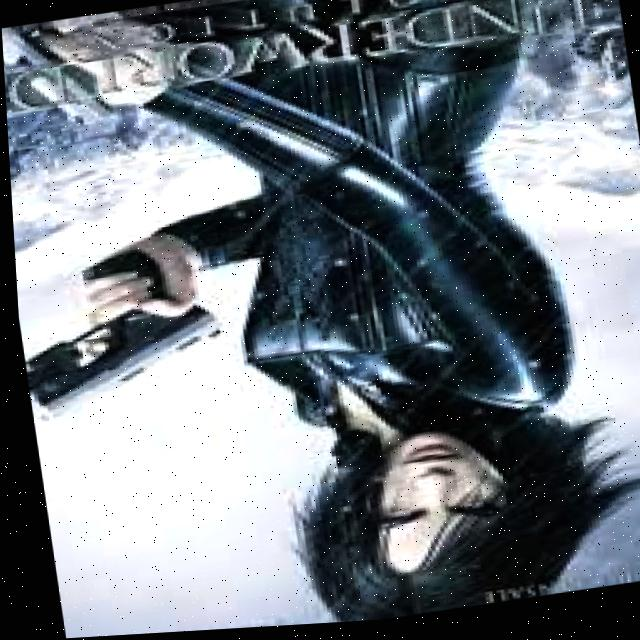pistol: (14, 297, 228, 427), (1, 13, 117, 144)
